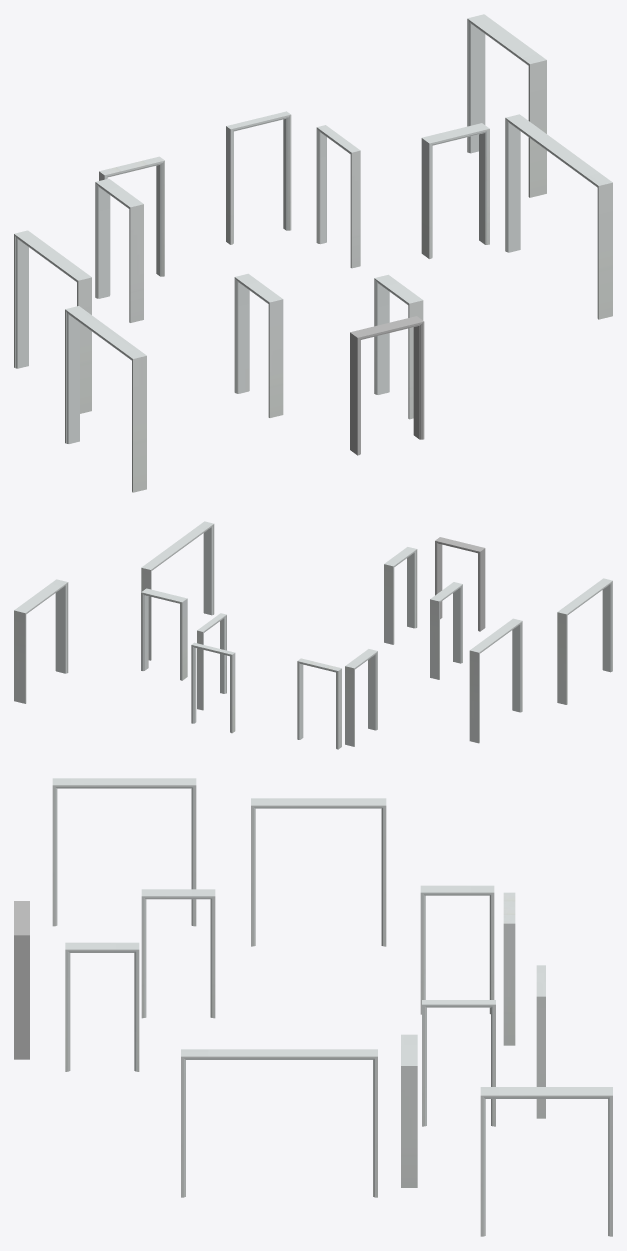
The model's file is menkuang.fbx.
The picture shows the model from 3 angles, top to bottom: view 1: azimuth 30°, elevation 25°; view 2: azimuth 150°, elevation 25°; view 3: azimuth 270°, elevation 25°; orthographic projection. The views are drawn at different scales.
Visible parts, largest first — view 1: menkuang; view 2: menkuang; view 3: menkuang.
Part boxes in pixels (left/top/right/bottom): menkuang: left=14, top=14, right=612, bottom=492; menkuang: left=14, top=521, right=612, bottom=749; menkuang: left=14, top=778, right=612, bottom=1236.
Bounding box in the file's own units: 1214 × 251 × 968.
